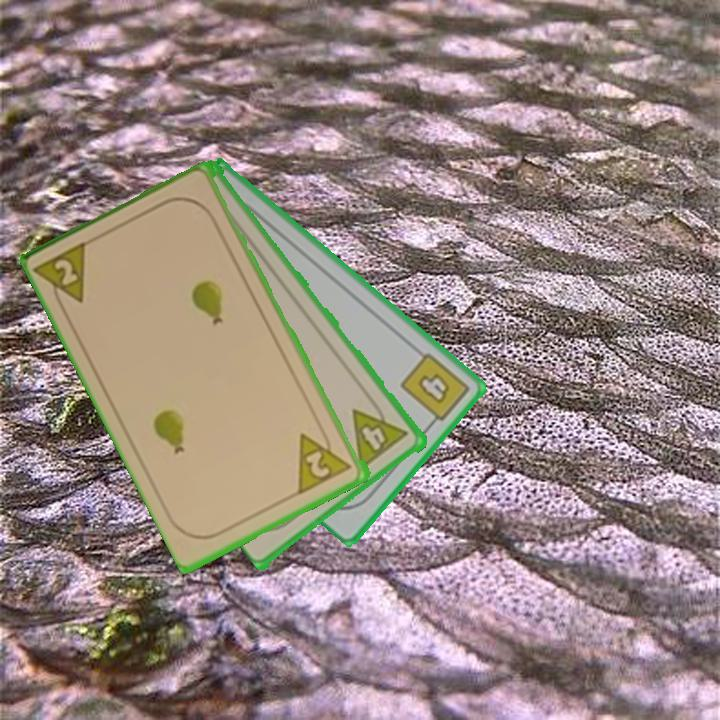2p: (33, 237, 94, 316), (294, 422, 355, 497)
4b: (397, 349, 473, 431)
4p: (349, 394, 412, 472)
